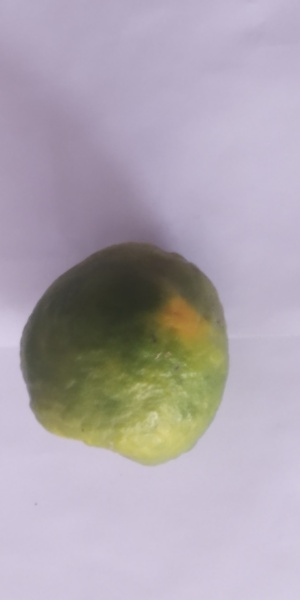BAD: (15, 240, 224, 469)
